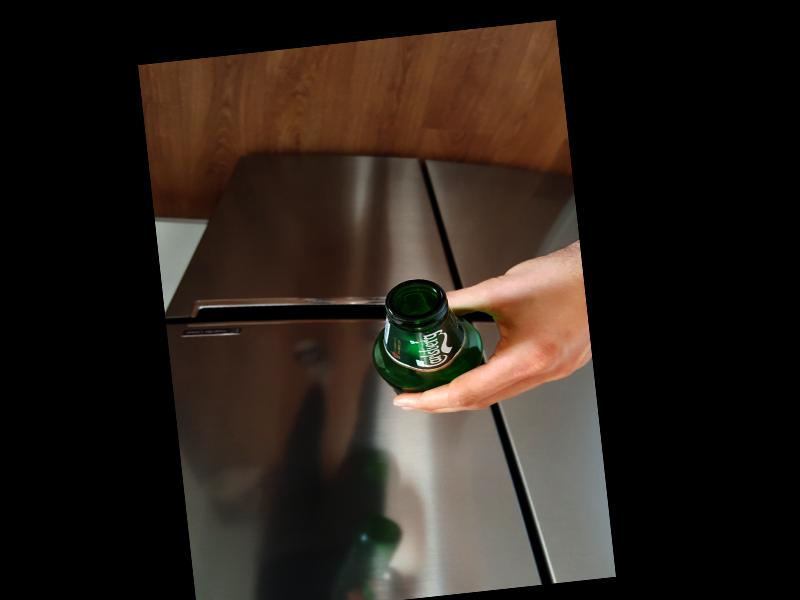Beer: (365, 273, 483, 397)
